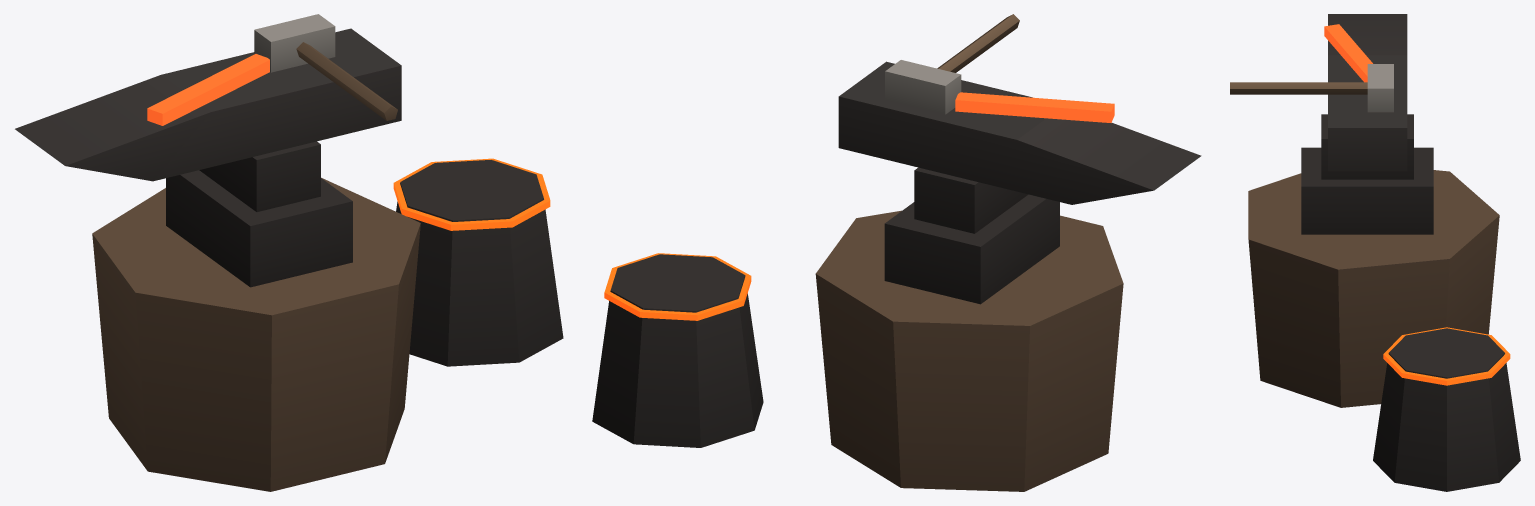
The model's file is anvil.glb.
The picture shows the model from 3 angles, left to right: view 1: azimuth 30°, elevation 25°; view 2: azimuth 150°, elevation 25°; view 3: azimuth 270°, elevation 25°; orthographic projection. The views are drawn at different scales.
Visible parts, largest first — view 1: anvil_mesh; view 2: anvil_mesh; view 3: anvil_mesh.
Part boxes in pixels (<box>): anvil_mesh: <box>15,14,563,491</box>; anvil_mesh: <box>592,14,1201,491</box>; anvil_mesh: <box>1230,14,1520,491</box>.
Size of the model in its own units: 1.93 by 1.25 by 1.1.
